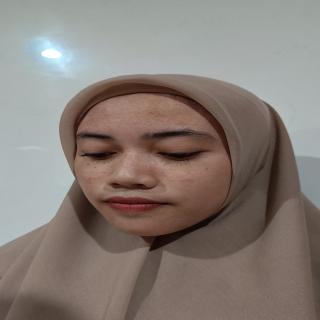Sedih: (67, 83, 243, 241)
